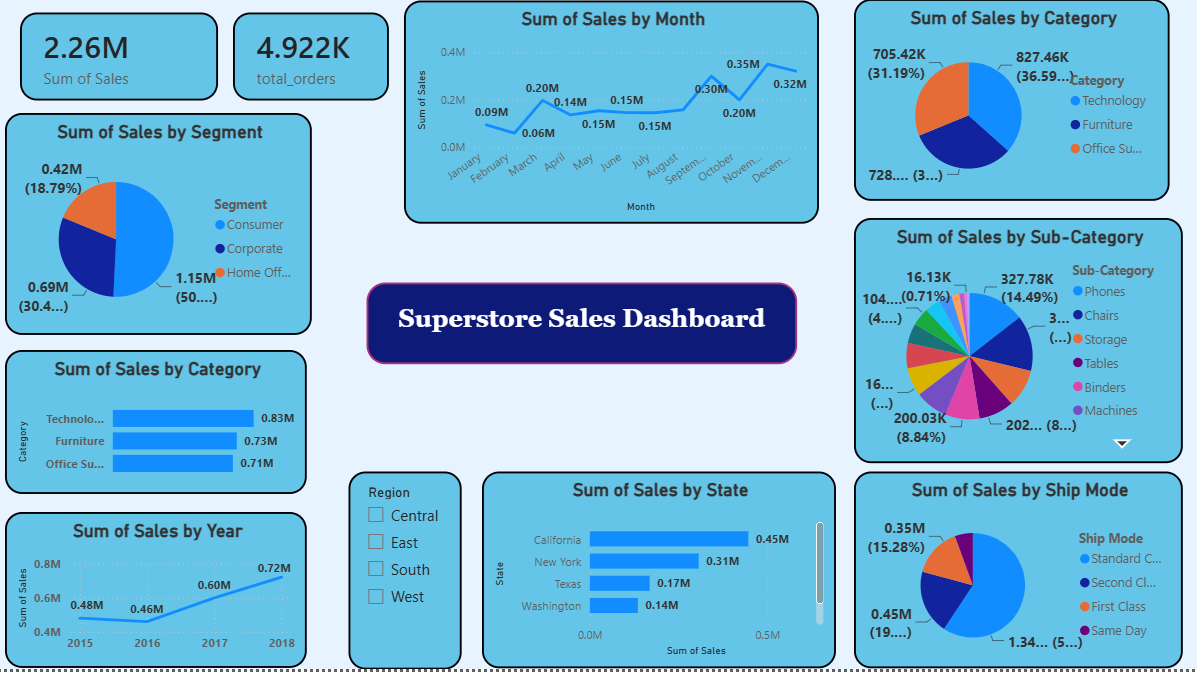

Layout of this report page (visuals, bound fields, positions):
{"tool":"powerbi","page":{"name":"Page 1","canvas":[1280,720],"ordinal":0},"visuals":[{"type":"clusteredBarChart","fields":{"Category":["train.Category"],"Y":["Sum(train.Sales)"]},"box":[10,381.4,320,152.9],"z":0},{"type":"cardVisual","fields":{"Data":["train.total_orders"]},"box":[251.7,23.3,165,93.3],"z":1000},{"type":"pieChart","fields":{"Category":["train.Category"],"Y":["Sum(train.Sales)"]},"box":[910,10,335,213.9],"z":2000},{"type":"pieChart","fields":{"Category":["train.Sub-Category"],"Y":["Sum(train.Sales)"]},"box":[910,241.7,348.3,260],"z":3000},{"type":"pieChart","fields":{"Category":["train.Segment"],"Y":["Sum(train.Sales)"]},"box":[10,130,325,235],"z":4000},{"type":"cardVisual","fields":{"Data":["Sum(train.Sales)"]},"box":[25,23.3,210,93.3],"z":5000},{"type":"lineChart","fields":{"Category":["train.Order Date.Variation.Date Hierarchy.Year"],"Y":["Sum(train.Sales)"]},"box":[10,553.3,320,165],"z":6000},{"type":"slicer","fields":{"Values":["train.Region"]},"box":[373.3,510,120,210],"z":7000},{"type":"clusteredBarChart","fields":{"Category":["train.State"],"Y":["Sum(train.Sales)"]},"box":[515,510,375,208.3],"z":8000},{"type":"pieChart","fields":{"Category":["train.Ship Mode"],"Y":["Sum(train.Sales)"]},"box":[910,510,348.3,208.3],"z":9000},{"type":"lineChart","fields":{"Y":["Sum(train.Sales)"],"Category":["train.Order Date.Variation.Date Hierarchy.Month"]},"box":[433.3,11.7,440,236.7],"z":10000},{"type":"textbox","box":[393.3,310,456.7,86.7],"z":11000}]}

Visuals, with their boxes in screenshot pixels (x1, y1, x2, y2), scaled from the page's 1280x720 canvas onto the 1197x673 screenshot:
clusteredBarChart - train.Category x Sum(train.Sales): box=[9, 357, 309, 499]
cardVisual - train.total_orders: box=[235, 22, 390, 109]
pieChart - train.Category x Sum(train.Sales): box=[851, 9, 1164, 209]
pieChart - train.Sub-Category x Sum(train.Sales): box=[851, 226, 1177, 469]
pieChart - train.Segment x Sum(train.Sales): box=[9, 122, 313, 341]
cardVisual - Sum(train.Sales): box=[23, 22, 220, 109]
lineChart - train.Order Date.Variation.Date Hierarchy.Year x Sum(train.Sales): box=[9, 517, 309, 671]
slicer - train.Region: box=[349, 477, 461, 672]
clusteredBarChart - train.State x Sum(train.Sales): box=[482, 477, 832, 671]
pieChart - train.Ship Mode x Sum(train.Sales): box=[851, 477, 1177, 671]
lineChart - Sum(train.Sales) x train.Order Date.Variation.Date Hierarchy.Month: box=[405, 11, 817, 232]
textbox: box=[368, 290, 795, 371]
